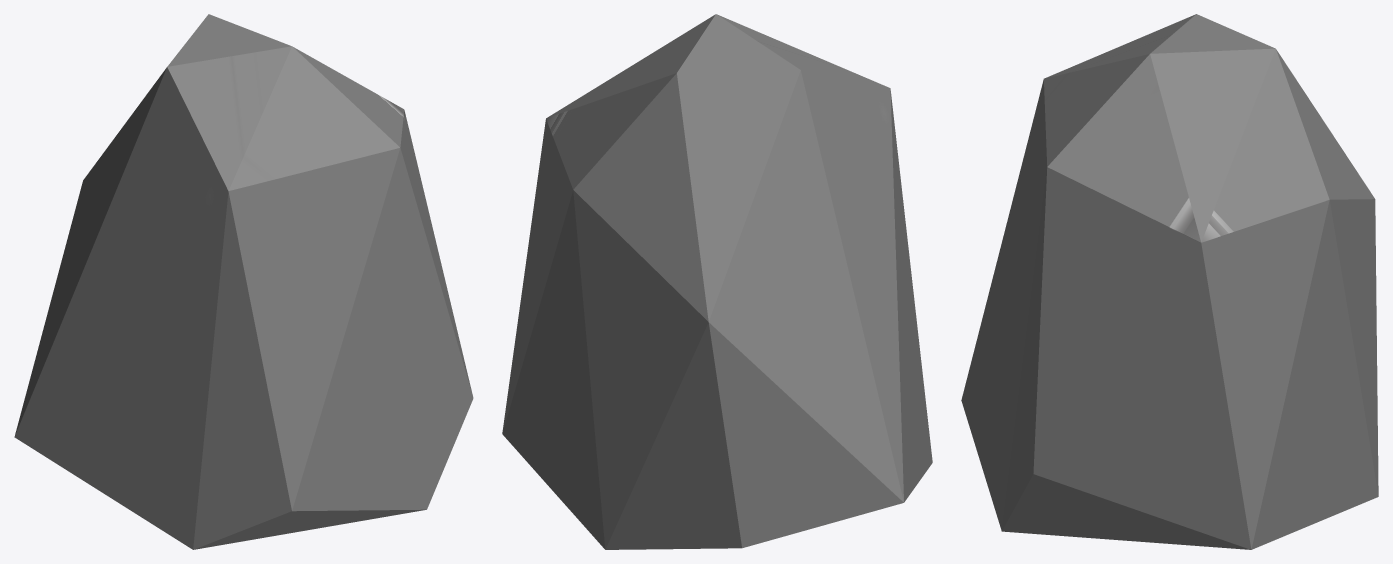
The model's file is stone1.obj.
3 renders of one model, left to right at view 1: azimuth 30°, elevation 25°; view 2: azimuth 150°, elevation 25°; view 3: azimuth 270°, elevation 25°, orthographic. The views are drawn at different scales.
Parts seen in each view (by area): view 1: Rock4.001_Cylinder.008; view 2: Rock4.001_Cylinder.008; view 3: Rock4.001_Cylinder.008.
Part boxes in pixels (left/top/right/bottom): Rock4.001_Cylinder.008: left=14, top=14, right=473, bottom=549; Rock4.001_Cylinder.008: left=502, top=14, right=932, bottom=549; Rock4.001_Cylinder.008: left=961, top=14, right=1378, bottom=549.
Size of the model in its own units: 24.51 by 26.2 by 22.22.
Materials: 1 (1 with a texture image).
